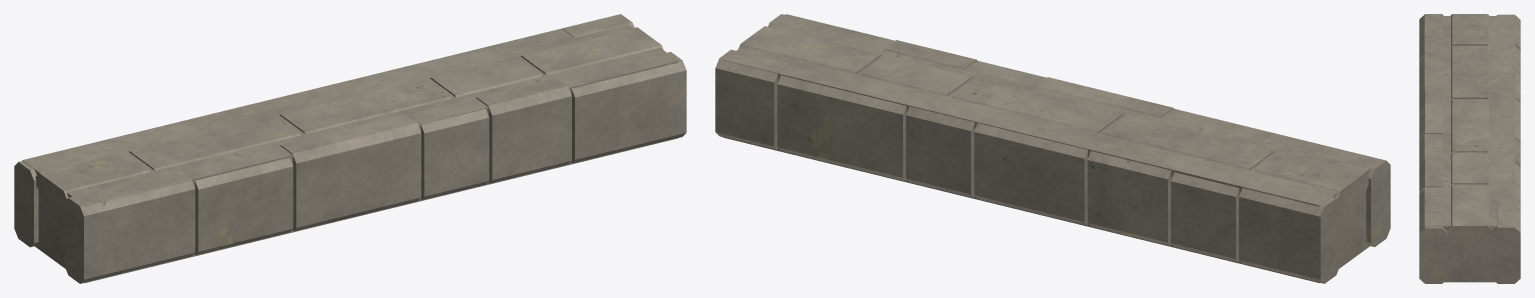
File: HO_Found_Plinth_8.fbx
3 renders of one model, left to right at view 1: azimuth 30°, elevation 25°; view 2: azimuth 150°, elevation 25°; view 3: azimuth 270°, elevation 25°, orthographic. The views are drawn at different scales.
Parts seen in each view (by area): view 1: HO_Found_Plinth_8; view 2: HO_Found_Plinth_8; view 3: HO_Found_Plinth_8.
Boxes of the visible parts, x1,y1,x2,y2 form: HO_Found_Plinth_8: [14, 14, 686, 283]; HO_Found_Plinth_8: [715, 14, 1390, 283]; HO_Found_Plinth_8: [1419, 14, 1520, 283].
Bounding box in the file's own units: 8 × 1 × 1.6.
